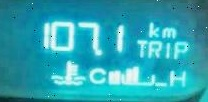-: (94, 48, 103, 55)
0: (49, 19, 72, 52)
1: (115, 22, 125, 54), (40, 20, 47, 51)
7: (77, 19, 99, 49)
X: (168, 67, 186, 86), (173, 40, 189, 61), (88, 66, 106, 84), (146, 40, 160, 57), (147, 20, 159, 35), (134, 39, 144, 56), (162, 26, 175, 38), (164, 40, 170, 58)
